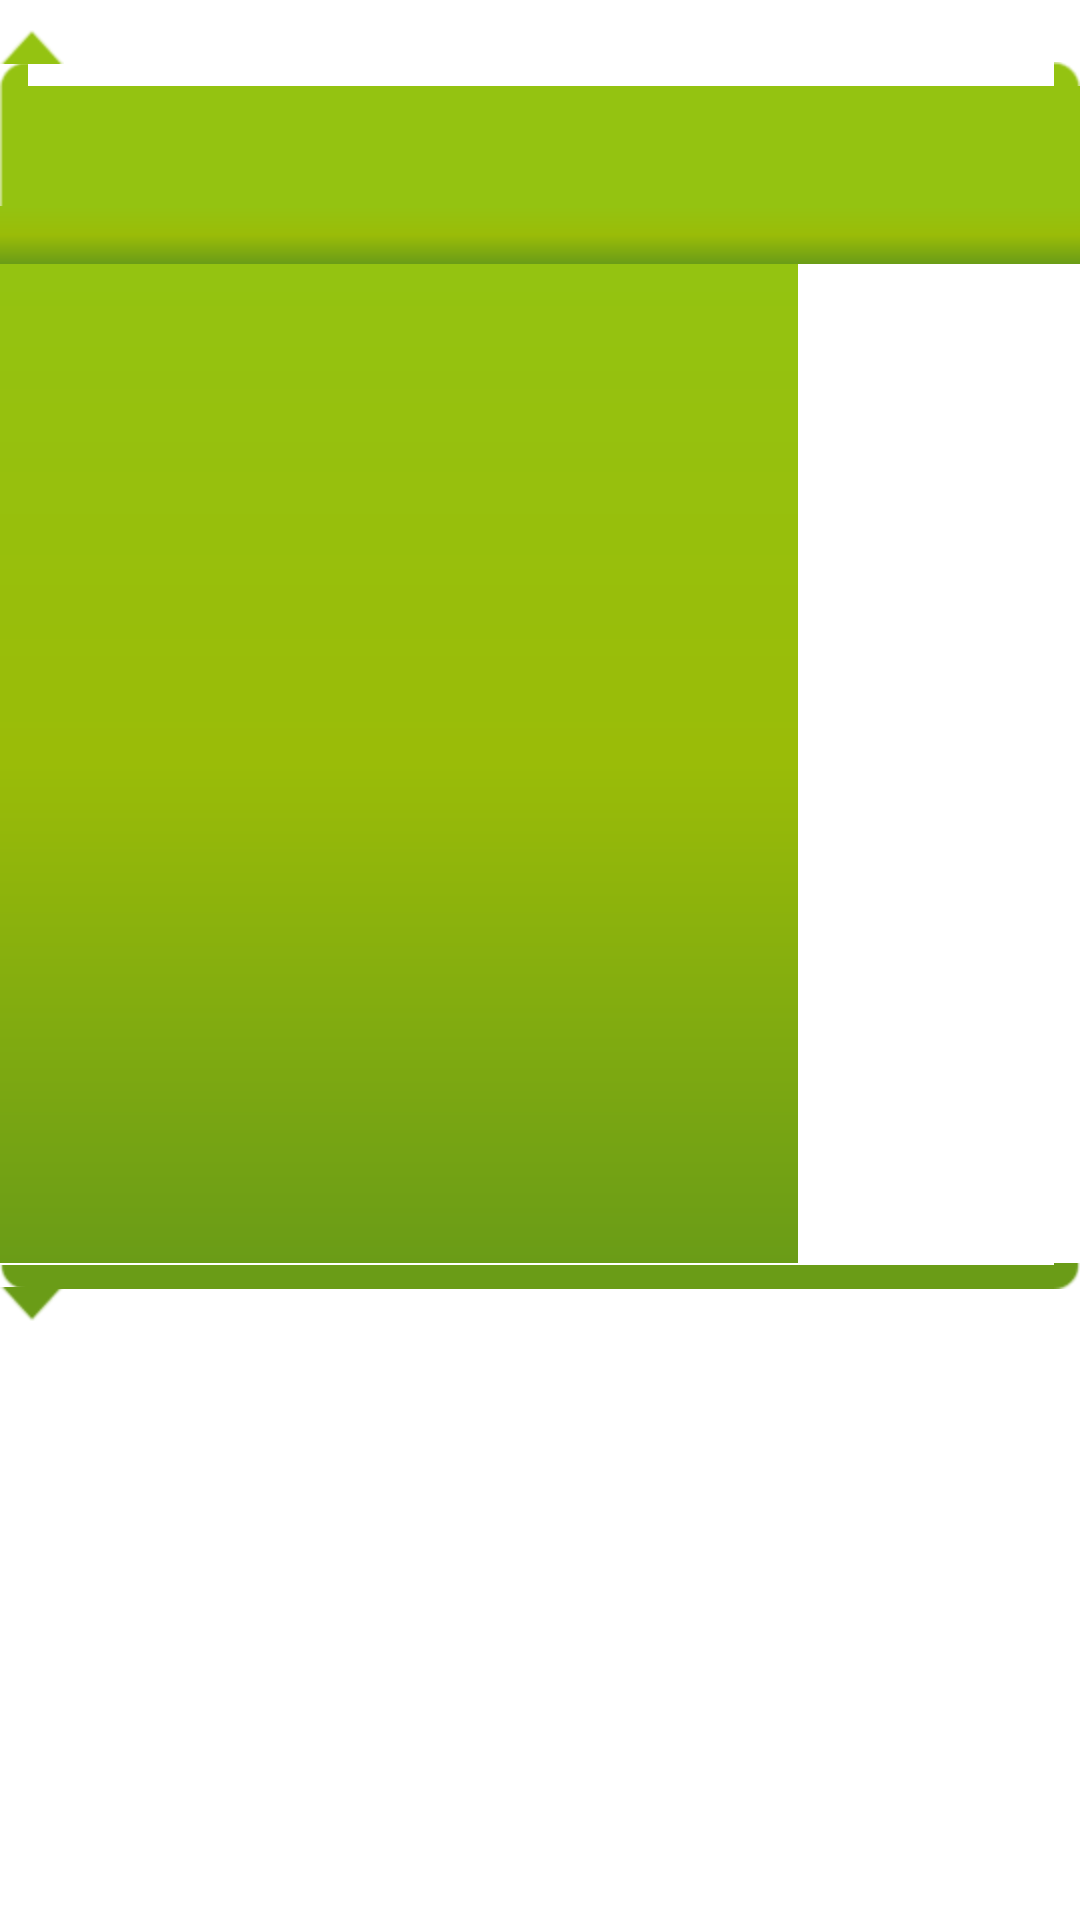

Icon bounding boxes for this 1080w x 1920h phone screenshot, format (x1, y1, x2, y2):
quickcontact arrow down: (1, 1287, 64, 1320)
quickcontact arrow up: (1, 31, 63, 64)
